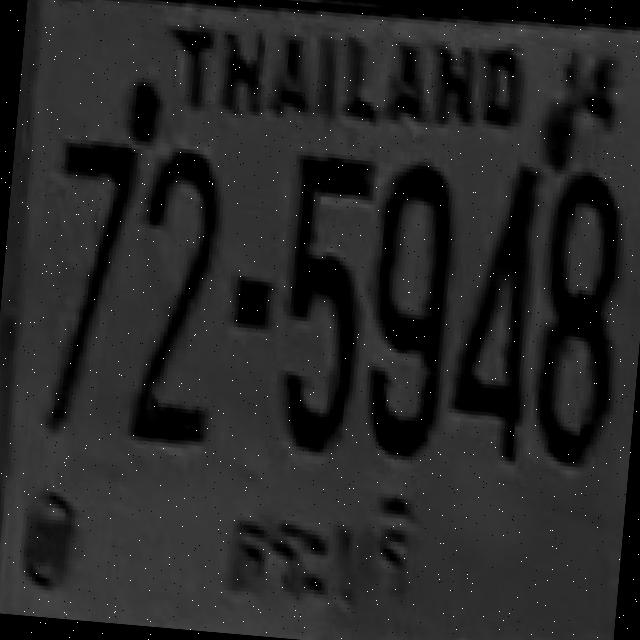0: (366, 158, 458, 352)
2: (124, 228, 220, 442)
4: (444, 163, 542, 460)
7: (46, 137, 138, 330)
8: (528, 167, 628, 463)
SaraBuri: (206, 466, 444, 622)
